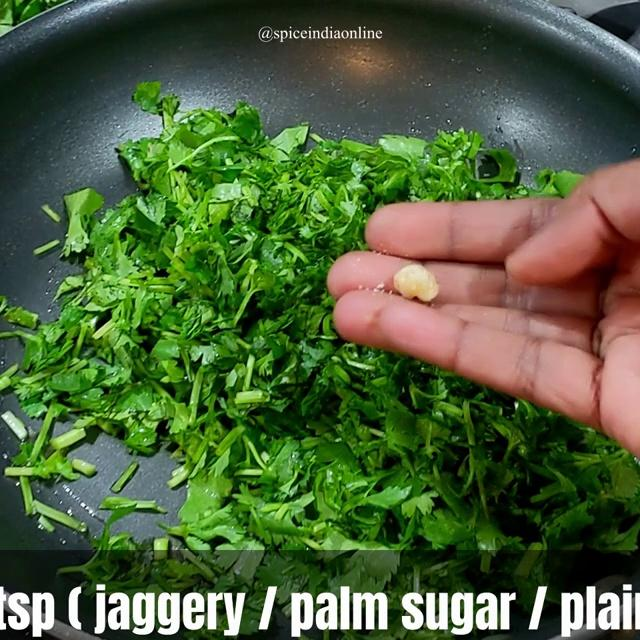cilantro: (93, 129, 324, 502)
